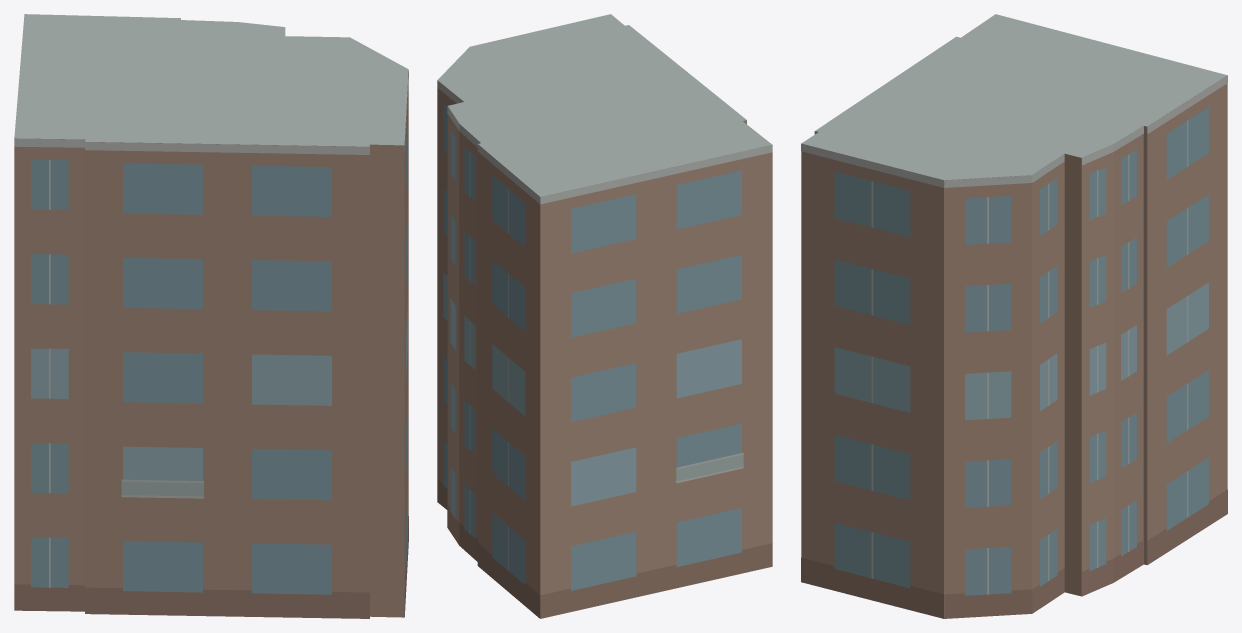
The model's file is survey-upis-32987779.glb.
3 renders of one model, left to right at view 1: azimuth 30°, elevation 25°; view 2: azimuth 150°, elevation 25°; view 3: azimuth 270°, elevation 25°, orthographic. The views are drawn at different scales.
Visible parts, largest first — view 1: survey-upis-32987779.tmp; view 2: survey-upis-32987779.tmp; view 3: survey-upis-32987779.tmp.
Boxes of the visible parts, x1=… form: survey-upis-32987779.tmp: x1=14, y1=14, x2=408, y2=618; survey-upis-32987779.tmp: x1=437, y1=14, x2=772, y2=618; survey-upis-32987779.tmp: x1=801, y1=14, x2=1227, y2=618.
Bounding box in the file's own units: 11.18 × 13.75 × 12.13.
